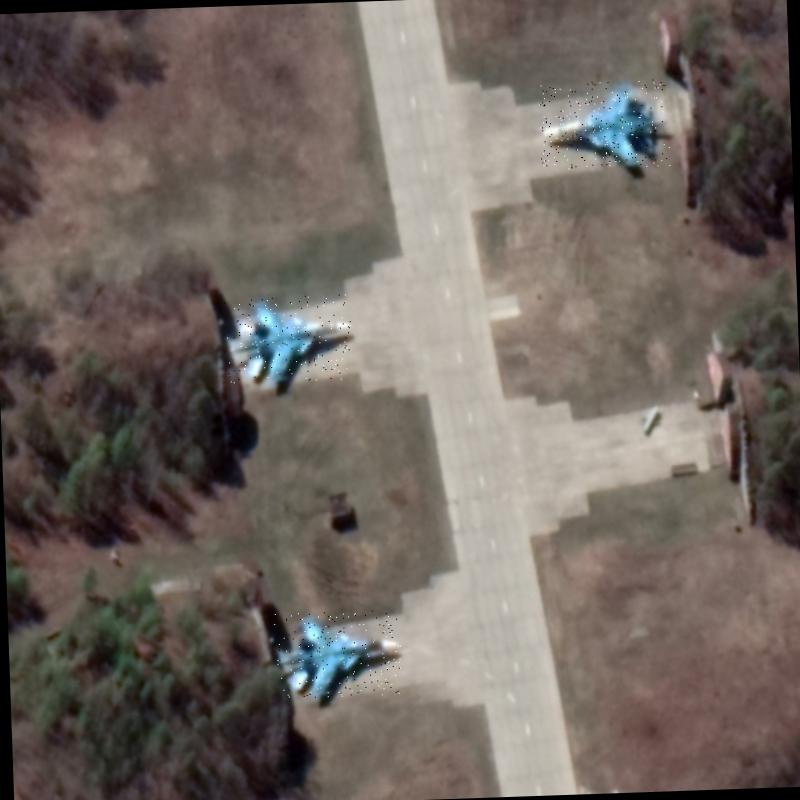A19: (538, 78, 670, 170), (224, 294, 353, 383), (274, 610, 403, 698)
